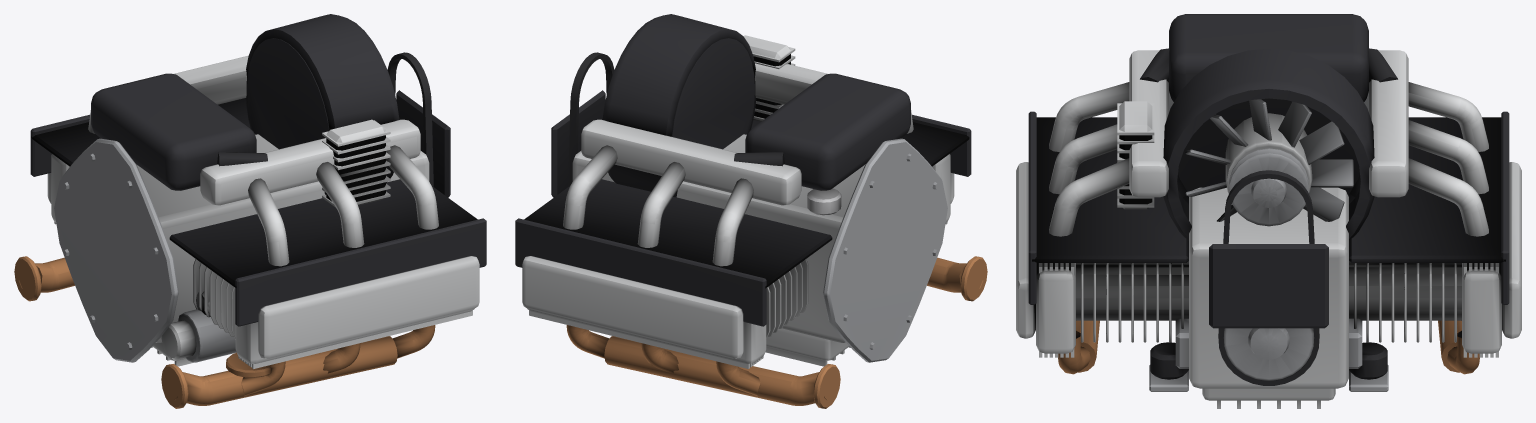
Rendered from eng_flat6.glb.
3 views of the same model, side by side, from view 1: azimuth 30°, elevation 25°; view 2: azimuth 150°, elevation 25°; view 3: azimuth 270°, elevation 25° (orthographic). The views are drawn at different scales.
Parts seen in each view (by area): view 1: PART; view 2: PART; view 3: PART.
Part boxes in pixels (<box>): PART: <box>14,14,486,408</box>; PART: <box>515,14,987,408</box>; PART: <box>1016,14,1521,408</box>.
Bounding box in the file's own units: 0.6578 × 0.541 × 0.76.
